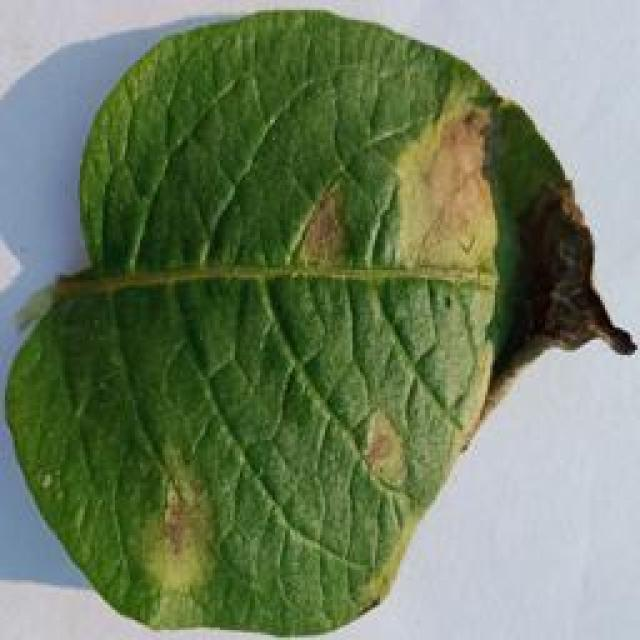Potato_Late_Blight: (9, 13, 628, 634)
